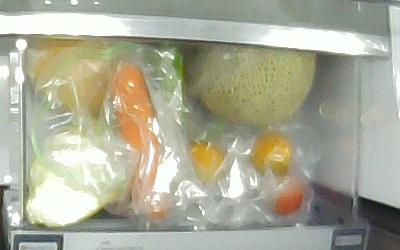cabbage_vinyl: (26, 128, 118, 227)
carrot_vinyl: (112, 64, 171, 220)
melon_vinyl: (196, 43, 316, 124)
pear_vinyl: (28, 38, 112, 112)
tangerine_vinyl: (249, 132, 290, 177), (186, 141, 225, 185)
tomato_vinyl: (272, 175, 304, 217)
zucchini_vinyl: (159, 45, 187, 131)
